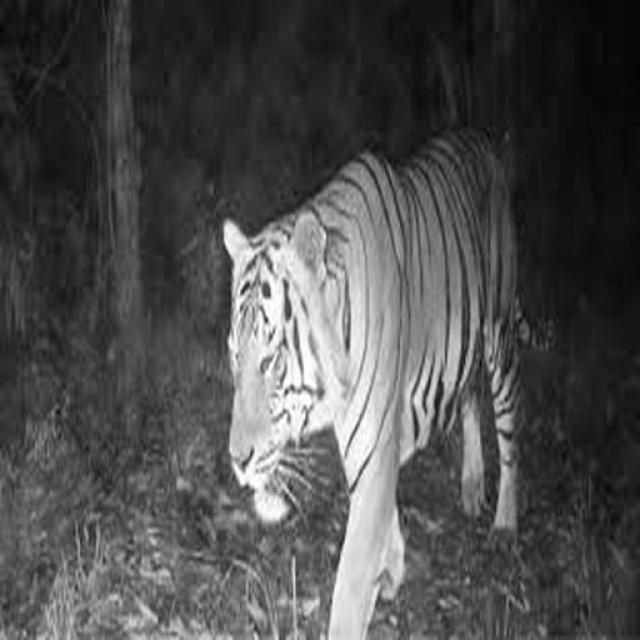Tiger: (219, 121, 531, 639)
